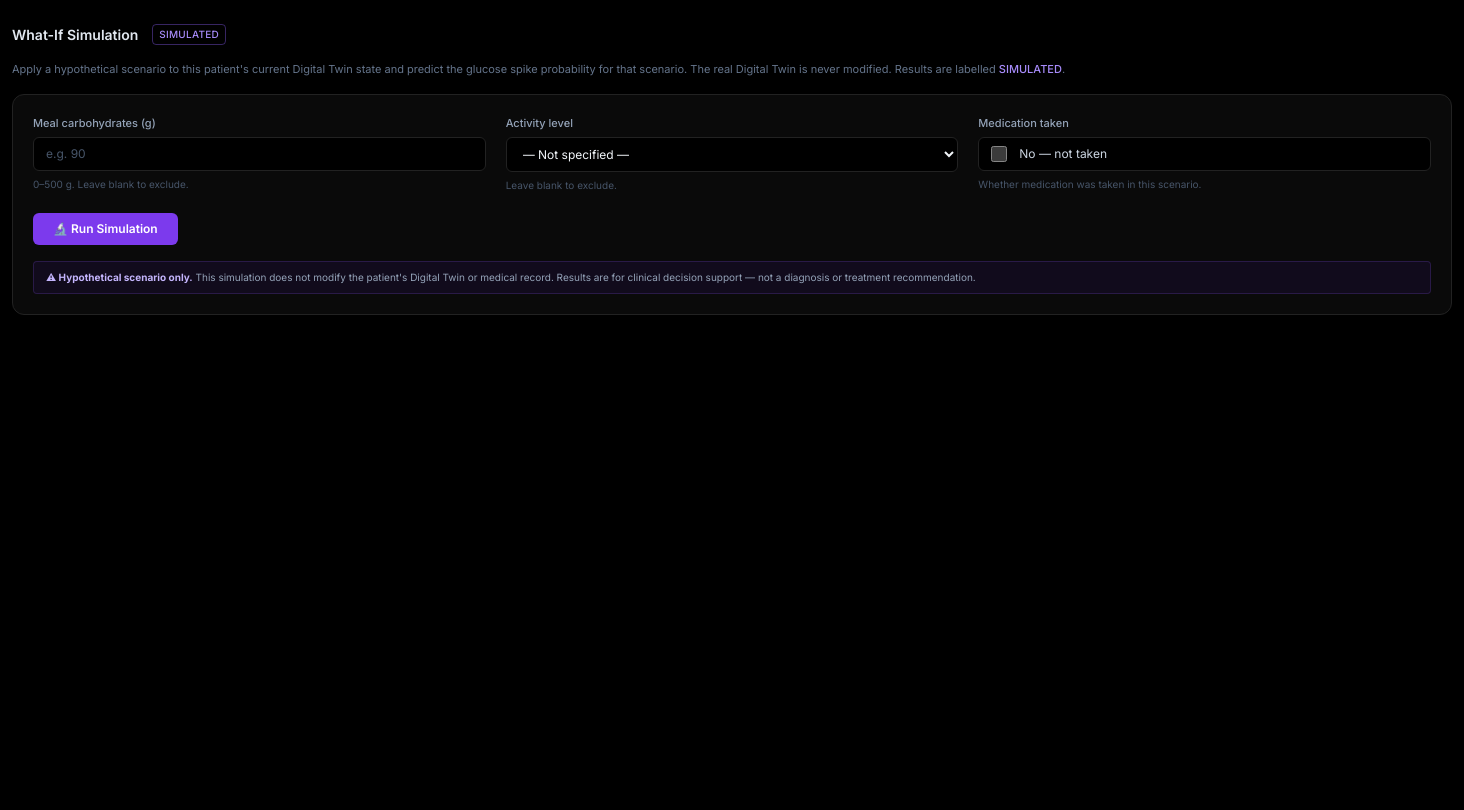
Test case: WhatIfSimulationPanel › displays simulated spike probability from the response
Type "90" into the number field labelled "Meal carbohydrates (g)" at (259, 154), box x1=33 y1=137 x2=486 y2=171
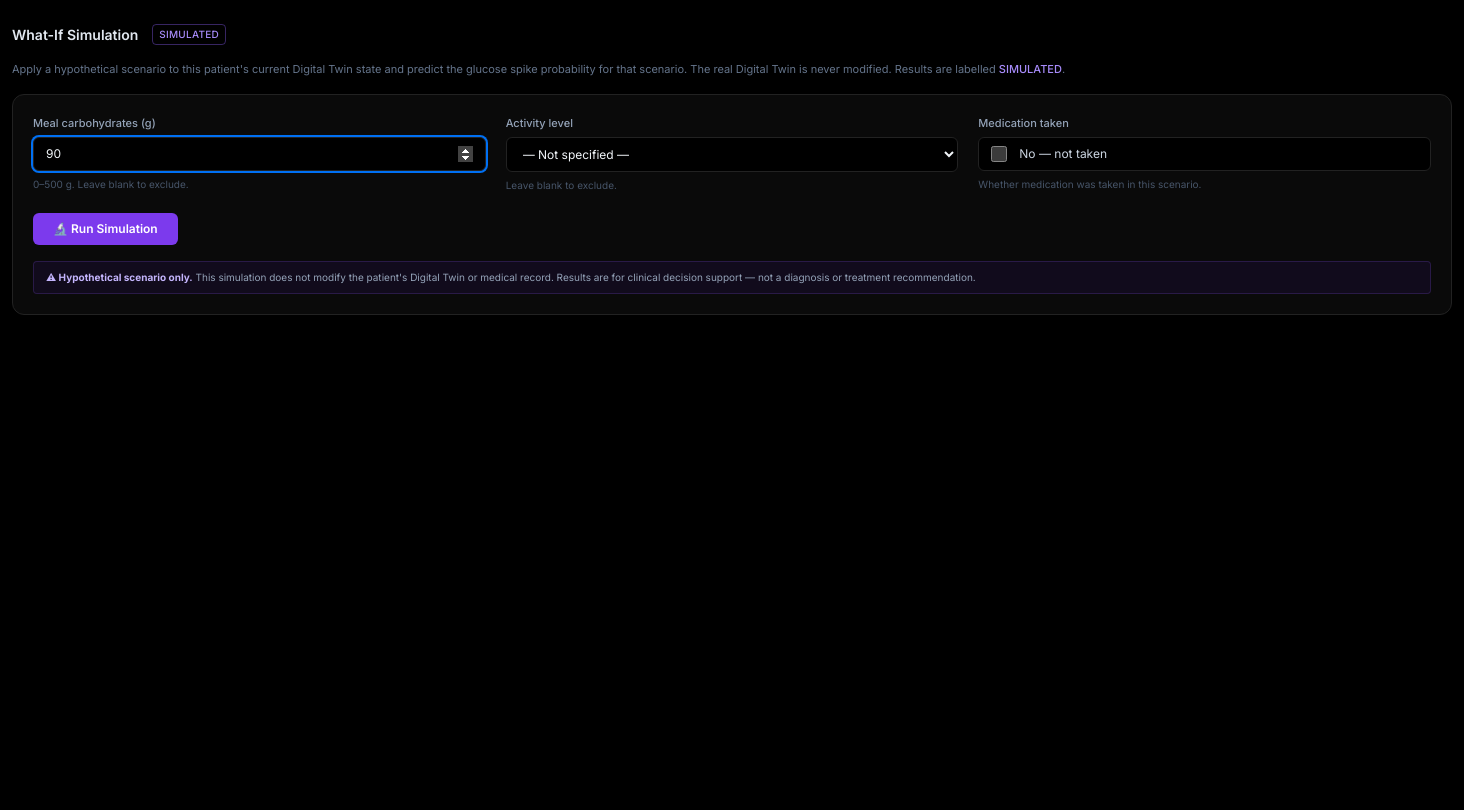
Click the button with test id "run-simulation-button" at (105, 229), box x1=33 y1=213 x2=178 y2=245
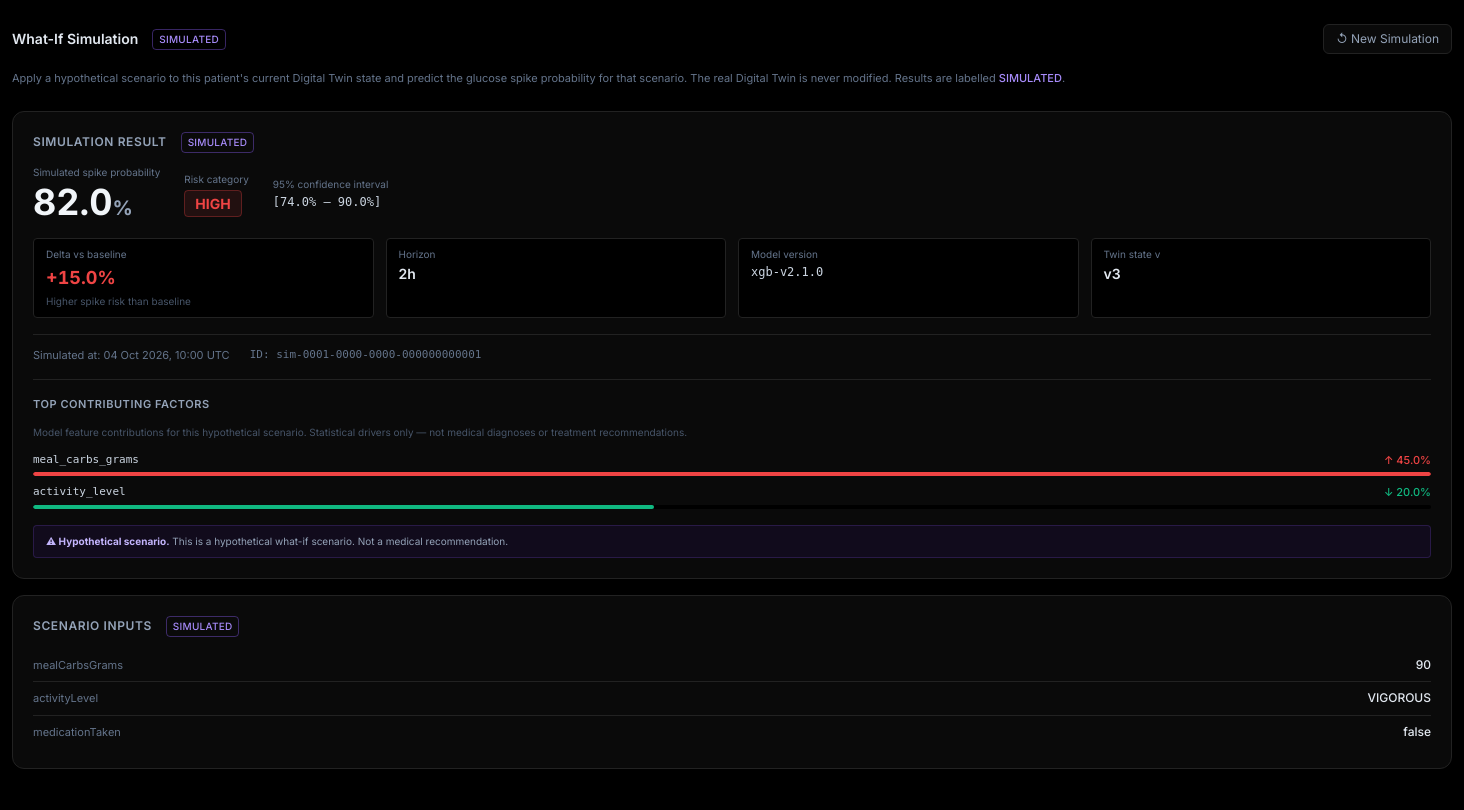
Expected: the text "82.0%" is shown, x1=33 y1=180 x2=133 y2=224
